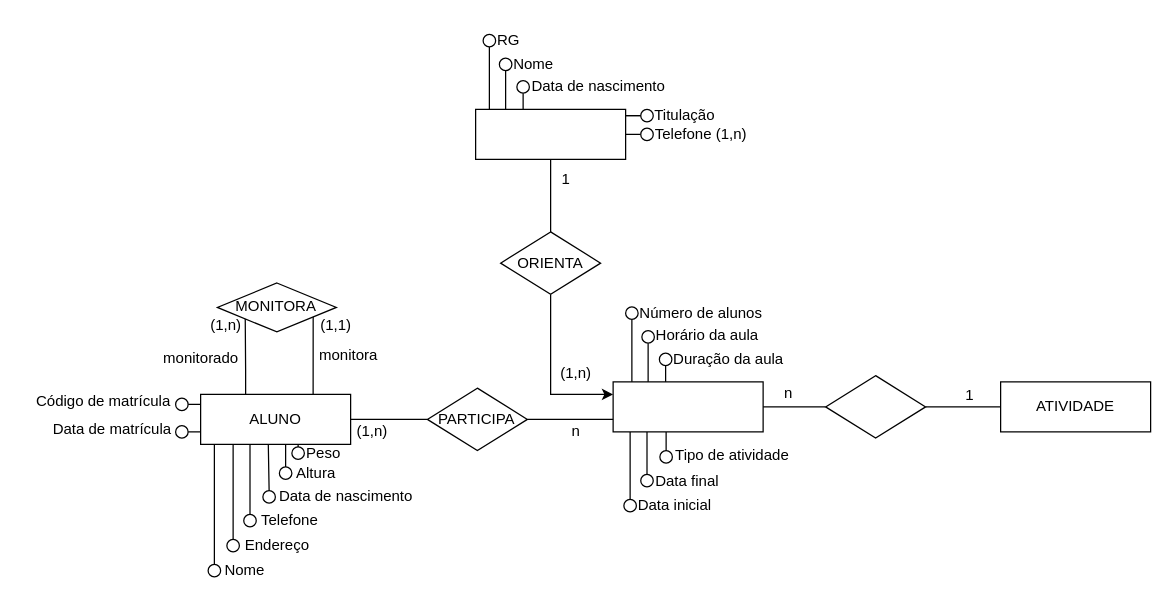
Image size: 1173x610. Some labels were removed from this diagram. The box of each missing label's shape, as (x1, y1, x2, y2) in pixels:
INSTRUTOR: (474, 108, 626, 159)
REALIZA: (824, 374, 926, 438)
TURMA: (612, 381, 763, 432)
